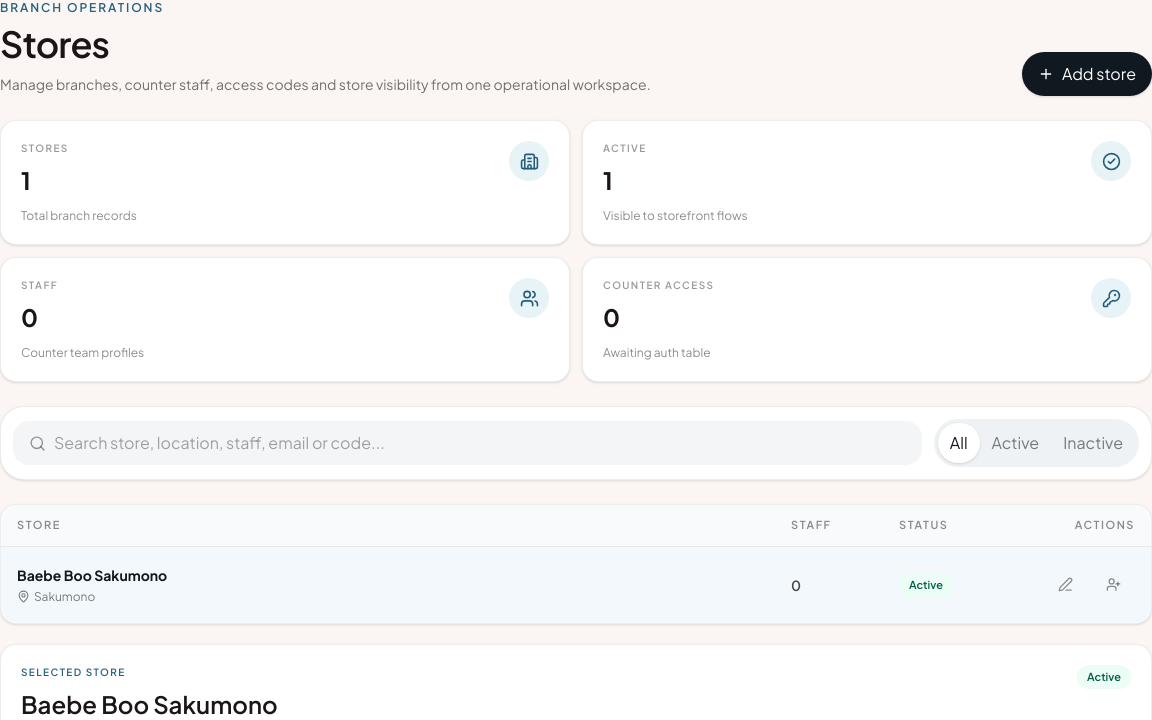
Test: StoreManagement — staff form › has no Photo URL field competing with the upload
Click the button named "Add staff to Baebe Boo Sakumono" at point(1113, 584), box [1091,562,1135,606]
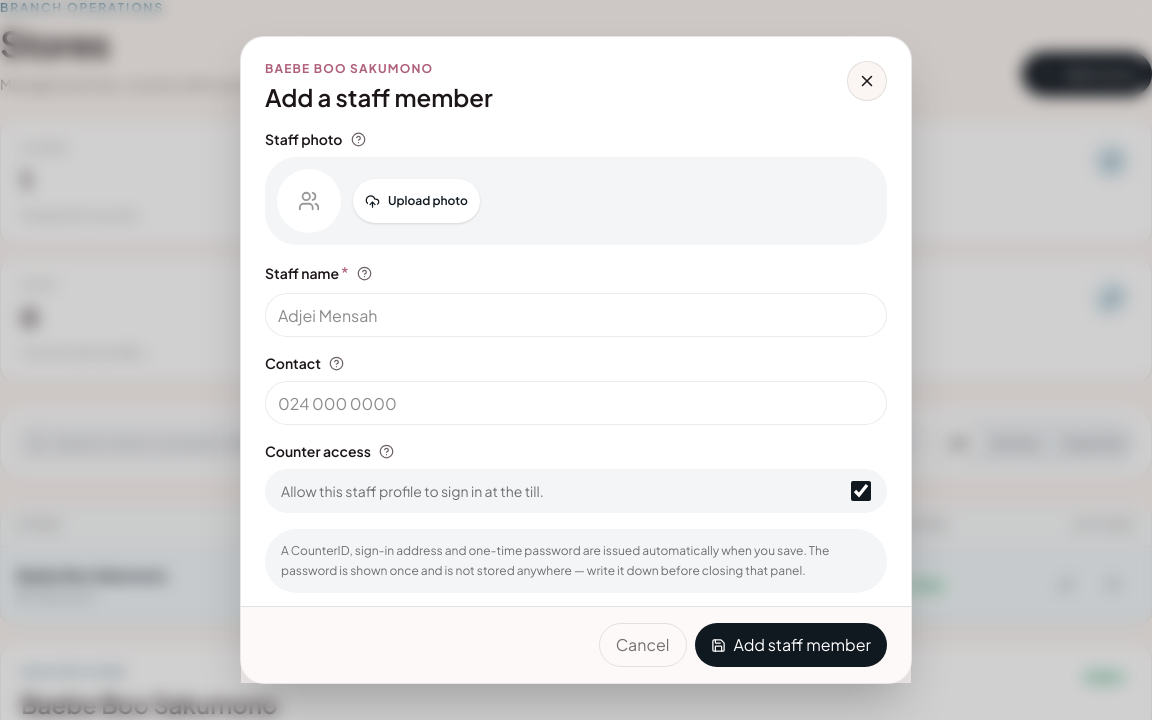
Expected: the file field "Upload photo" is shown, [353,179,480,223]
